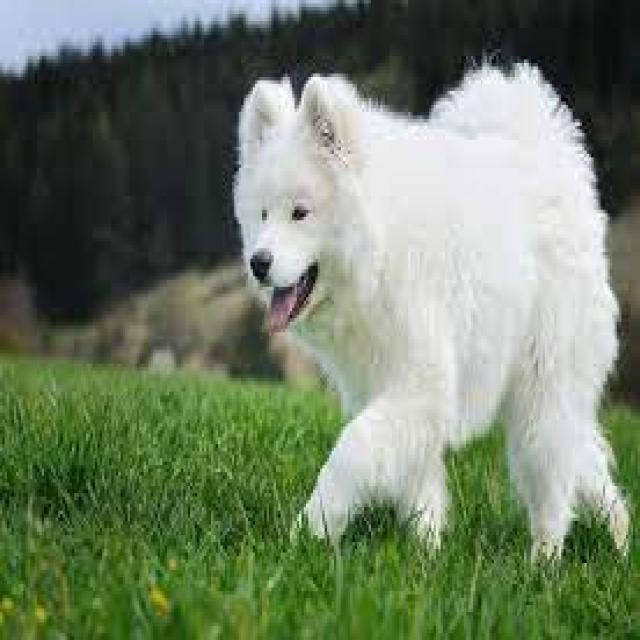dogs: (230, 53, 630, 563)
